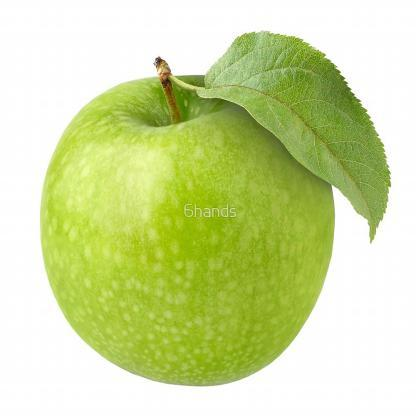Apple leaf: (198, 15, 404, 243)
